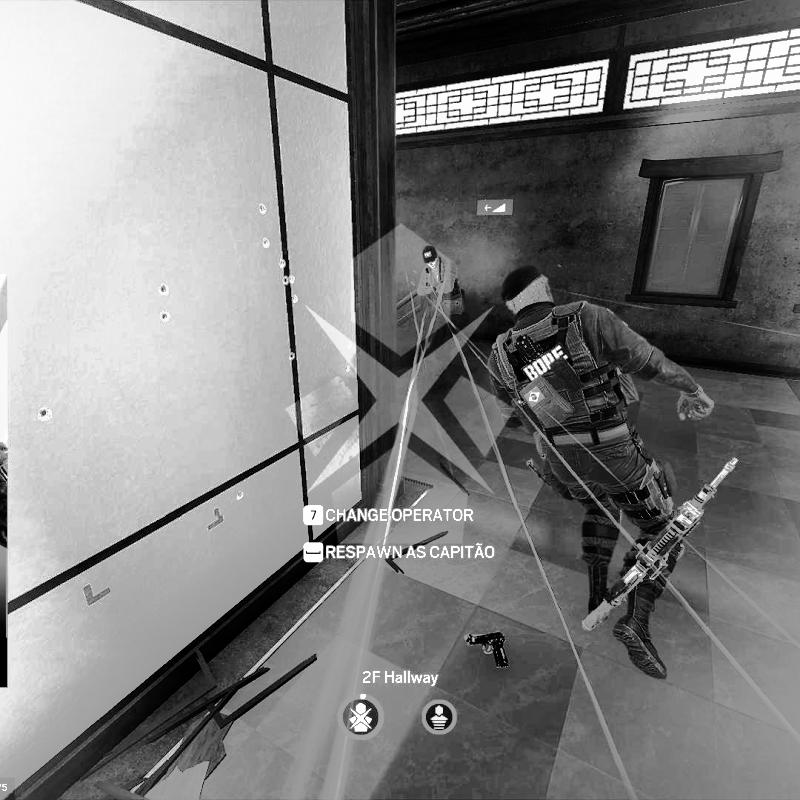Character: (483, 262, 722, 683), (414, 242, 466, 332)
Head: (503, 265, 555, 317), (422, 243, 439, 270)
